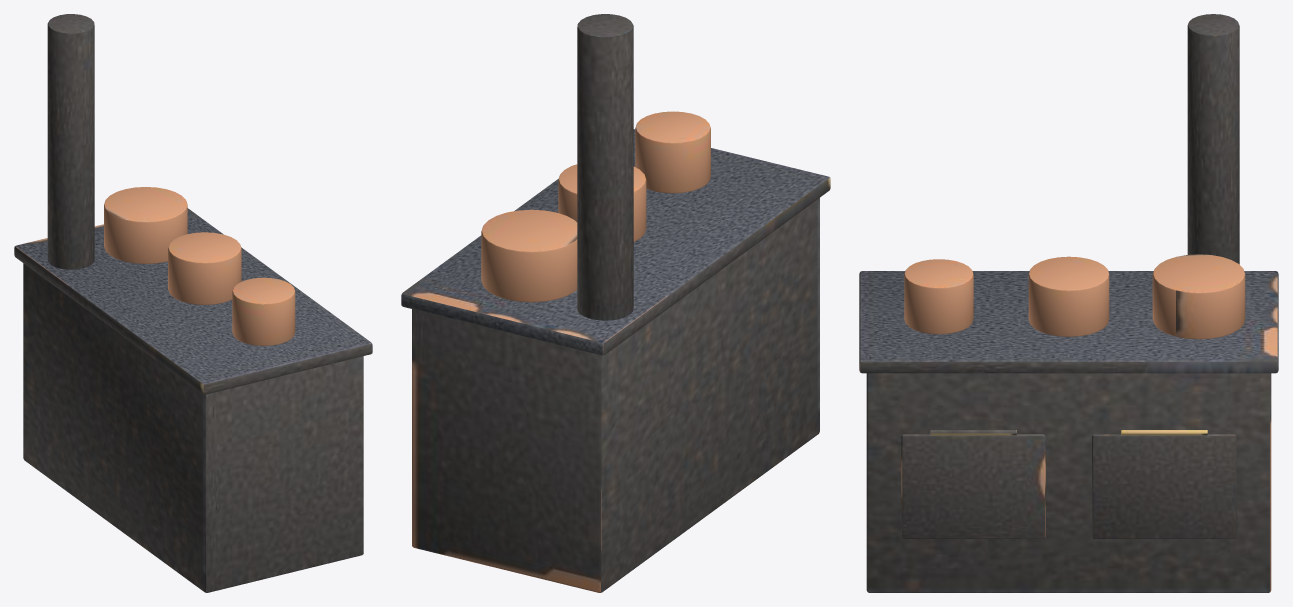
The model's file is range.glb.
The picture shows the model from 3 angles, left to right: view 1: azimuth 30°, elevation 25°; view 2: azimuth 150°, elevation 25°; view 3: azimuth 270°, elevation 25°; orthographic projection. The views are drawn at different scales.
Parts seen in each view (by area): view 1: body, top, flue, pot2, pot1, pot0; view 2: body, top, flue, pot2, pot0, pot1; view 3: body, top, oven_door0, oven_door1, flue, pot2, pot1, pot0.
Part boxes in pixels (x1,y1,x2,y2): body: (23,263,363,592); top: (14,208,372,394); flue: (47,14,94,269); pot2: (104,187,187,263); pot1: (168,232,241,304); pot0: (232,277,295,345); body: (412,198,819,592); top: (401,129,830,355); flue: (577,14,633,320); pot2: (481,209,577,302); pot0: (635,111,710,193); pot1: (558,164,646,241); body: (866,373,1271,592); top: (859,271,1278,373); oven_door0: (901,434,1045,538); oven_door1: (1092,434,1236,538); flue: (1187,14,1239,264); pot2: (1152,254,1245,339); pot1: (1028,256,1109,336); pot0: (904,259,973,334).
Size of the model in its own units: 0.7745 by 1.89 by 1.45.
Materials: 1 (1 with a texture image).
